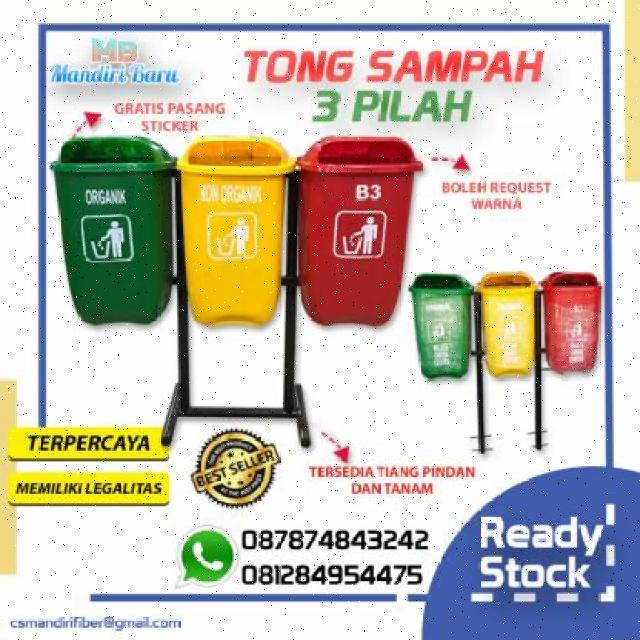garbage container: (294, 128, 428, 341), (50, 133, 176, 355), (179, 131, 293, 336), (407, 271, 484, 391), (477, 267, 546, 386), (541, 271, 604, 384)
